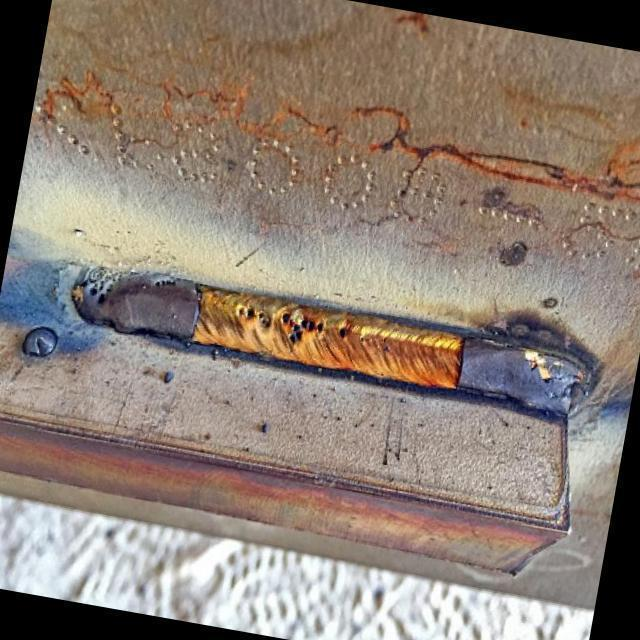defect: (279, 311, 330, 354), (87, 272, 119, 306), (235, 303, 273, 329), (146, 272, 178, 294), (334, 323, 350, 341)
